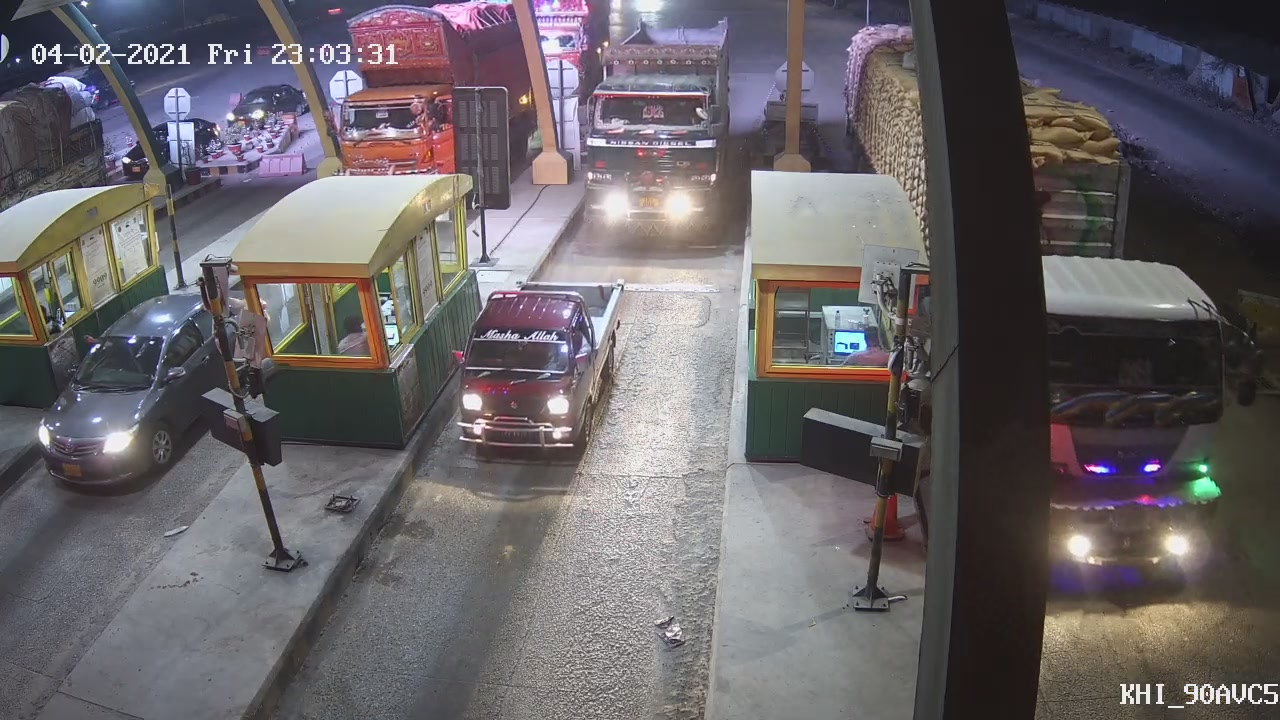F2: (457, 274, 634, 461)
F5: (573, 38, 735, 254)
